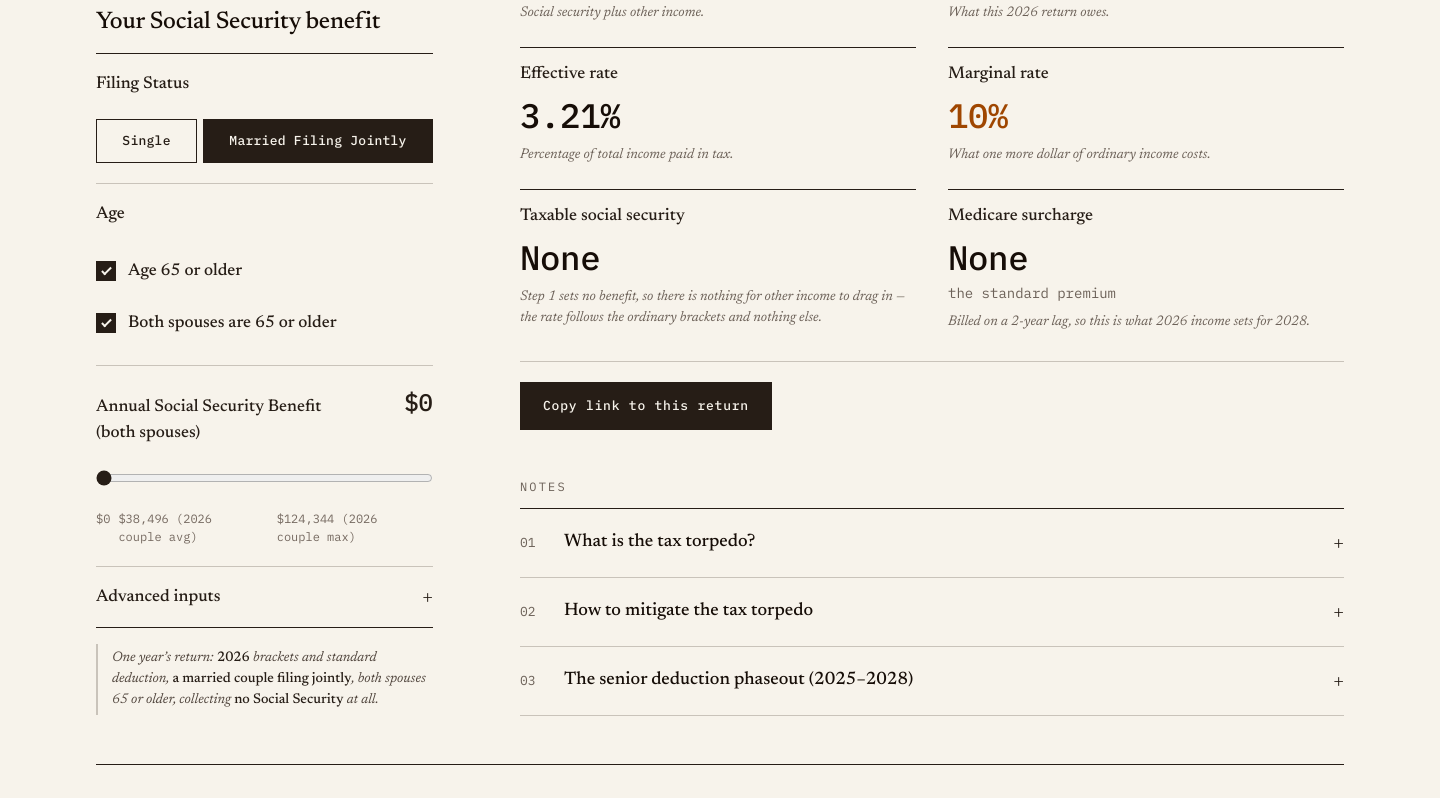
it: the closing answer › sending the answer › points at the address bar when the browser refuses the copy
The image size is (1440, 798).
(page scrolled)
Click the button "Copy link to this return". click: click(646, 406)
box: [520, 382, 772, 430]
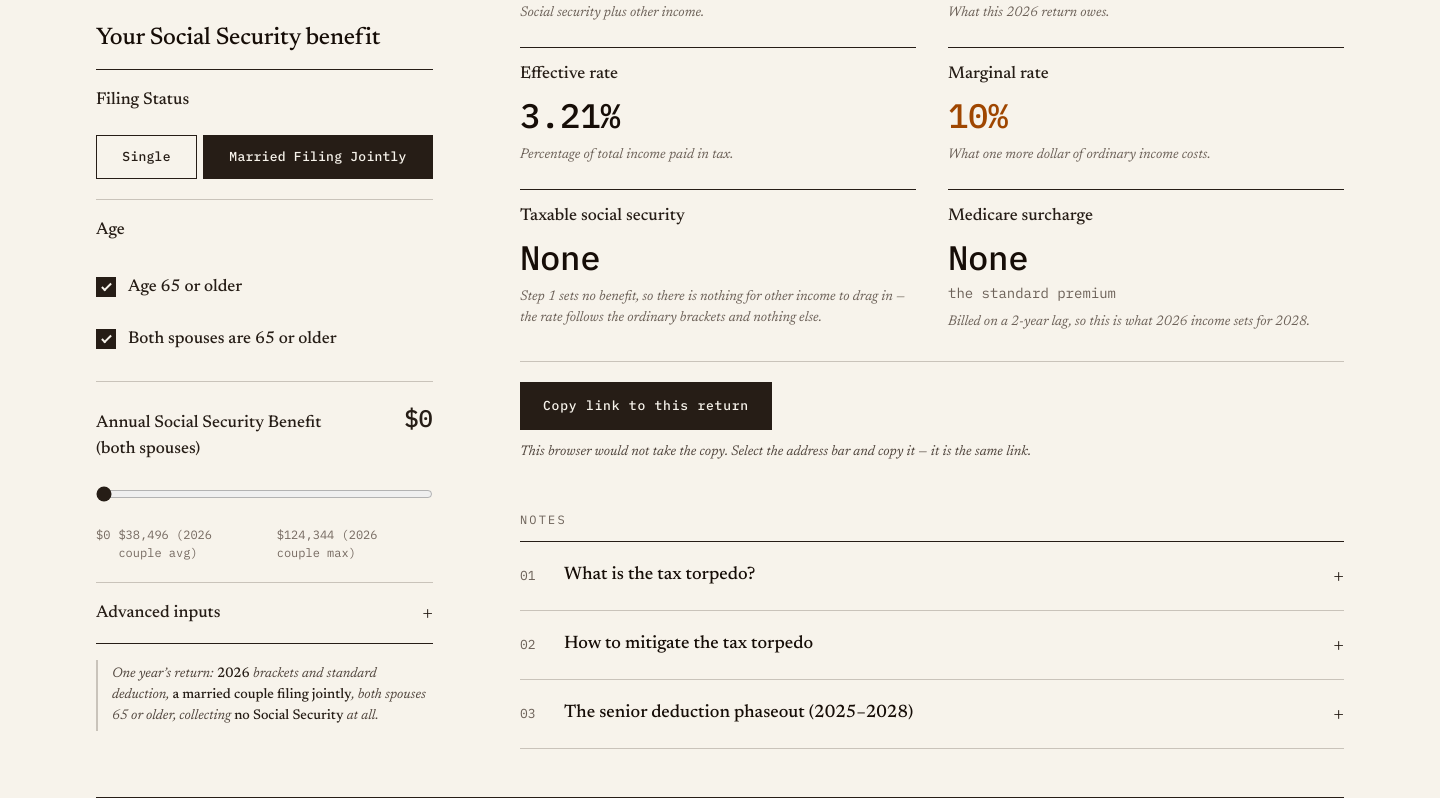
Check: the text "would not take the copy" shows "Select the address bar and copy it — it is the same link.", box [520, 445, 1031, 459]
